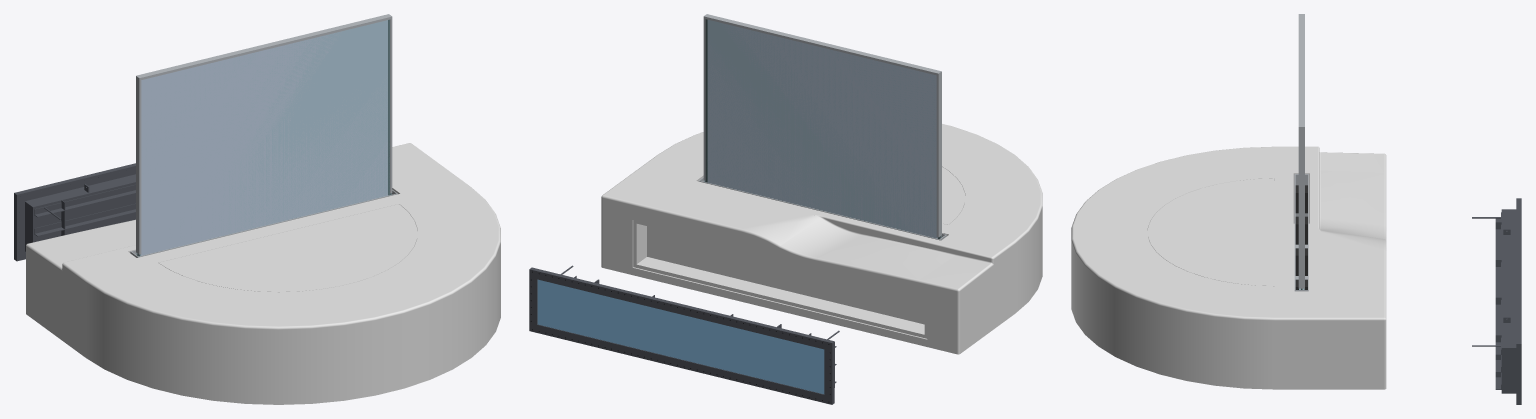
File: garde-corps_A.glb
3 renders of one model, left to right at view 1: azimuth 30°, elevation 25°; view 2: azimuth 150°, elevation 25°; view 3: azimuth 270°, elevation 25°, orthographic. The views are drawn at different scales.
Visible parts, largest first — view 1: socle, verre_avant_88.2_trempe_extraclair_AR, lenticulaire_PETG_6mm_clair_pince, rose, caisson_tole_U_316L_3mm, cadre_plat_60x10_316L, encadrement_U_inox_316L_haut, encadrement_U_inox_316L_gauche, corniere_dos_40x40x4_z150, corniere_dos_40x40x4_z280, auge_U_inox_316L_ep6_drainee, encadrement_U_inox_316L_droite; view 2: socle, verre_arriere_88.2_trempe_extraclair_AR, lenticulaire_PETG_6mm_clair_pince, verre_66.2_extraclair_AR, longeron_60x24_battee_onglet_haut, longeron_60x24_battee_onglet_bas, encadrement_U_inox_316L_haut, rose, encadrement_U_inox_316L_gauche, longeron_60x24_battee_onglet_droite, ruban_colle_peripherique_12x6, encadrement_U_inox_316L_droite (+3 smaller); view 3: socle, rose, caisson_tole_U_316L_3mm, encadrement_U_inox_316L_droite, encadrement_U_inox_316L_haut, corniere_dos_40x40x4_z280, longeron_60x24_battee_onglet_haut, auge_U_inox_316L_ep6_drainee, cadre_plat_60x10_316L.
Boxes of the visible parts, <box> form: socle: <box>26,143,500,404</box>; verre_avant_88.2_trempe_extraclair_AR: <box>138,19,391,256</box>; lenticulaire_PETG_6mm_clair_pince: <box>140,20,387,255</box>; rose: <box>158,204,417,292</box>; caisson_tole_U_316L_3mm: <box>25,174,135,251</box>; cadre_plat_60x10_316L: <box>16,165,135,261</box>; encadrement_U_inox_316L_haut: <box>136,14,392,80</box>; encadrement_U_inox_316L_gauche: <box>136,76,141,254</box>; corniere_dos_40x40x4_z150: <box>34,203,135,236</box>; corniere_dos_40x40x4_z280: <box>34,184,135,217</box>; auge_U_inox_316L_ep6_drainee: <box>130,190,397,257</box>; encadrement_U_inox_316L_droite: <box>390,19,392,193</box>; socle: <box>601,124,1042,354</box>; verre_arriere_88.2_trempe_extraclair_AR: <box>704,19,939,238</box>; lenticulaire_PETG_6mm_clair_pince: <box>708,20,937,238</box>; verre_66.2_extraclair_AR: <box>537,279,824,394</box>; longeron_60x24_battee_onglet_haut: <box>529,268,833,349</box>; longeron_60x24_battee_onglet_bas: <box>530,324,831,404</box>; encadrement_U_inox_316L_haut: <box>703,14,941,75</box>; rose: <box>942,167,964,224</box>; encadrement_U_inox_316L_gauche: <box>936,71,941,237</box>; longeron_60x24_battee_onglet_droite: <box>824,342,833,404</box>; ruban_colle_peripherique_12x6: <box>705,19,939,238</box>; encadrement_U_inox_316L_droite: <box>703,16,705,180</box>; socle: <box>1071,146,1386,389</box>; rose: <box>1148,178,1274,286</box>; caisson_tole_U_316L_3mm: <box>1501,209,1516,393</box>; encadrement_U_inox_316L_droite: <box>1298,127,1304,288</box>; encadrement_U_inox_316L_haut: <box>1298,14,1304,128</box>; corniere_dos_40x40x4_z280: <box>1495,212,1501,354</box>; longeron_60x24_battee_onglet_haut: <box>1518,198,1521,343</box>; auge_U_inox_316L_ep6_drainee: <box>1294,174,1308,291</box>; cadre_plat_60x10_316L: <box>1516,198,1517,404</box>.
Size of the model in its own units: 2772 by 1834 by 3031.
